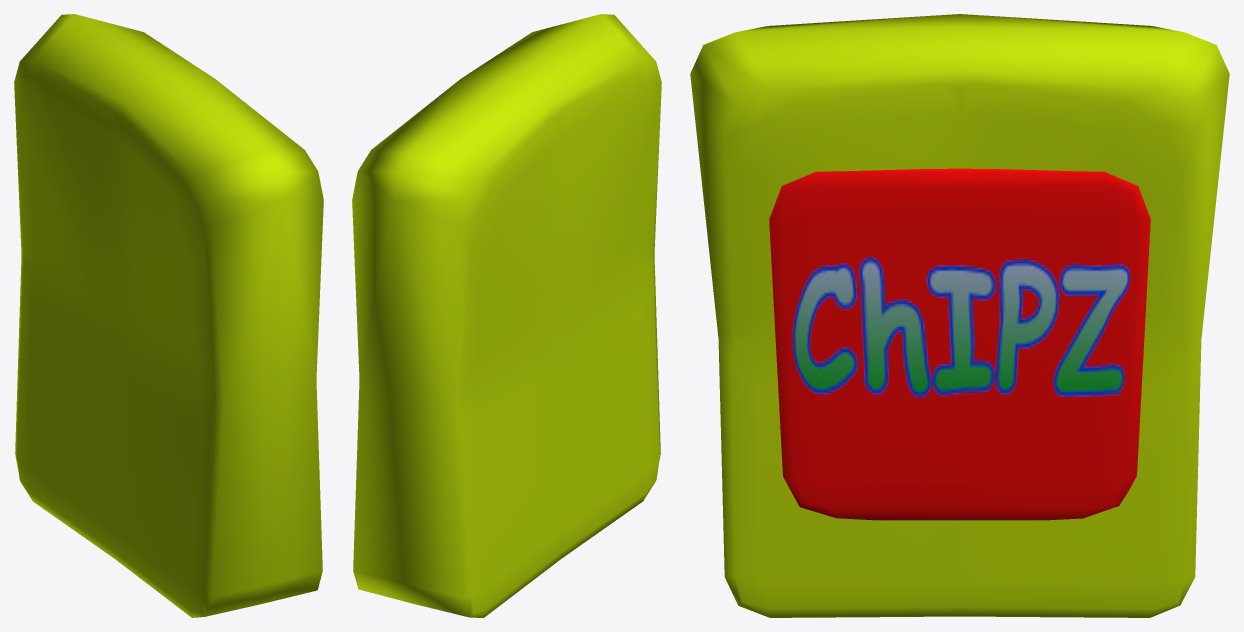
The model's file is chips.dae.
The picture shows the model from 3 angles, left to right: view 1: azimuth 30°, elevation 25°; view 2: azimuth 150°, elevation 25°; view 3: azimuth 270°, elevation 25°; orthographic projection. The views are drawn at different scales.
Visible parts, largest first — view 1: chips; view 2: chips; view 3: chips.
Part boxes in pixels (x1,y1,x2,y2): chips: (14,14,323,617); chips: (352,14,661,617); chips: (690,14,1229,617).
Bounding box in the file's own units: 0.8406 × 2.71 × 3.09.
2 materials, 1 textured.
